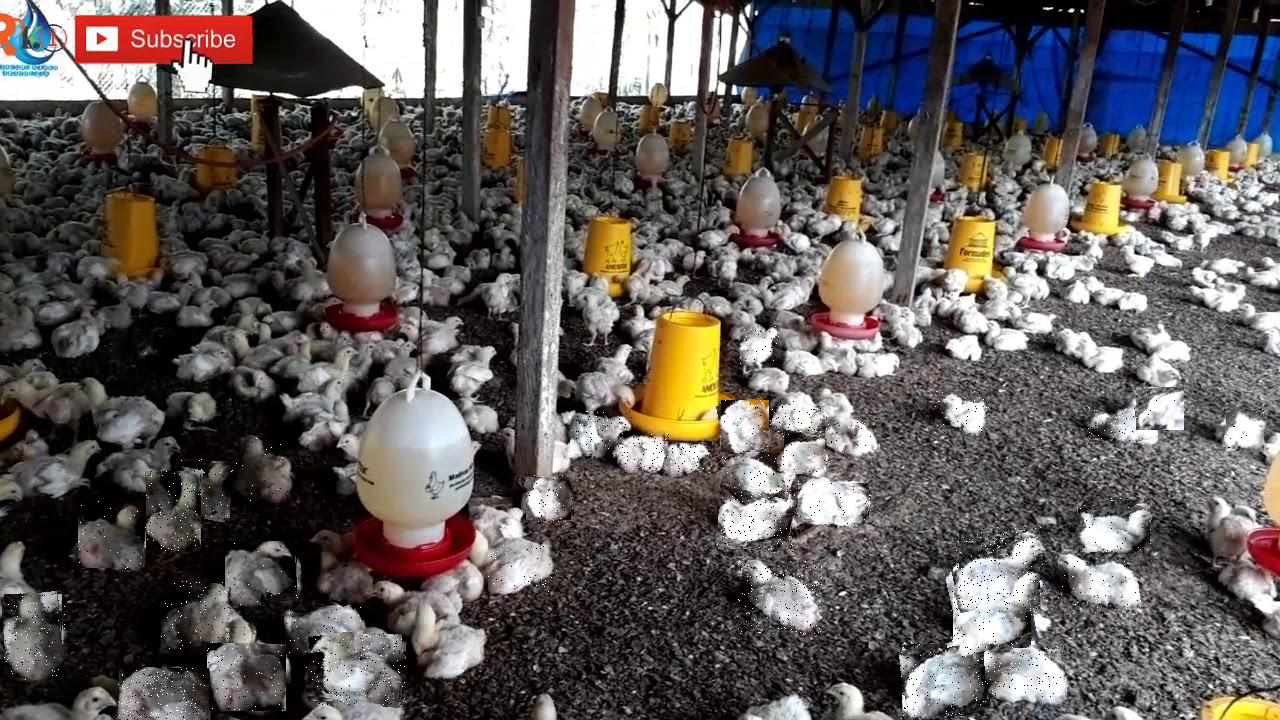chicken: (949, 561, 1035, 653), (957, 528, 1045, 611), (307, 633, 406, 706), (901, 641, 989, 719), (162, 582, 260, 652), (736, 561, 822, 635), (1058, 545, 1139, 617), (4, 593, 66, 681), (207, 644, 286, 711), (718, 490, 796, 554), (77, 499, 147, 570), (974, 646, 1067, 699), (118, 667, 209, 720), (226, 542, 300, 604), (1076, 498, 1153, 556), (146, 471, 201, 551), (236, 437, 294, 505), (285, 606, 364, 654), (175, 459, 234, 520), (797, 479, 871, 526), (489, 542, 558, 592), (723, 455, 795, 500), (719, 400, 771, 456), (1088, 407, 1157, 447), (571, 412, 633, 456), (935, 392, 990, 435), (524, 475, 573, 522), (618, 432, 670, 473), (1136, 387, 1184, 430), (826, 417, 880, 454), (783, 430, 827, 475), (772, 399, 823, 436), (1224, 410, 1266, 454), (663, 442, 712, 476), (741, 326, 780, 365)
